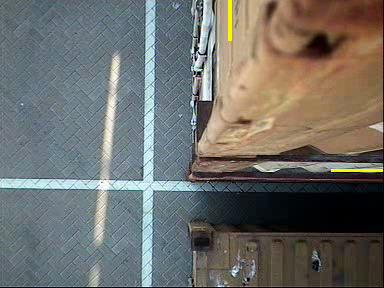groundmarker_2: (139, 70, 200, 112), (141, 232, 201, 274)
